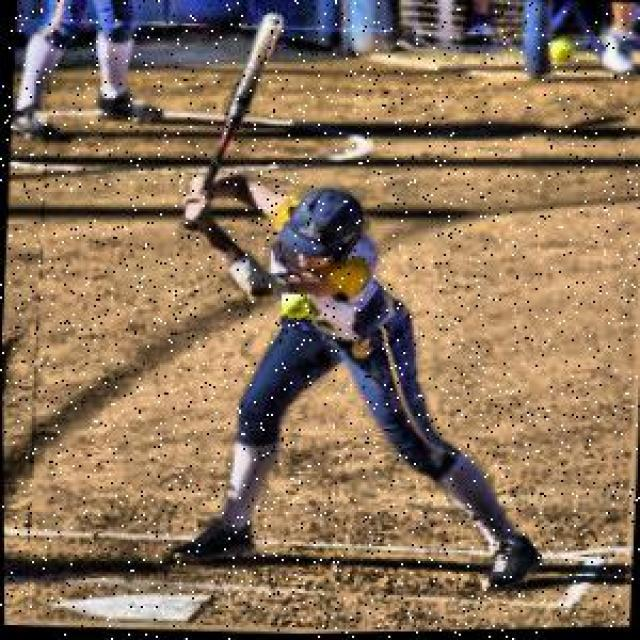tennis-ball: (279, 295, 318, 334), (548, 41, 572, 66)
